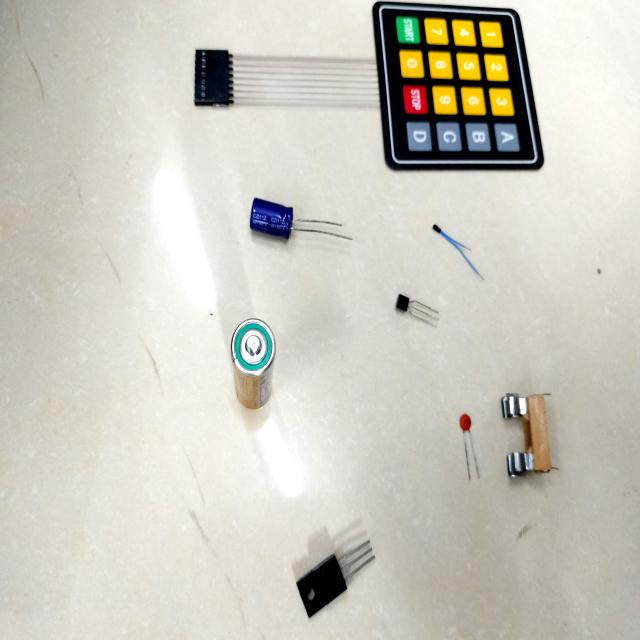1-5-Volt-Battery: (204, 309, 285, 424)
BJT-Transistor: (388, 281, 446, 338)
Capacitor-470mf: (234, 187, 363, 263)
Fuse-Base: (490, 368, 569, 502)
IGBT: (280, 515, 403, 629)
Keypad: (172, 0, 560, 204)
Low-Voltage-Ceramic-Capacitor: (442, 399, 494, 495)
NTC-Thermistor: (424, 218, 488, 295)
